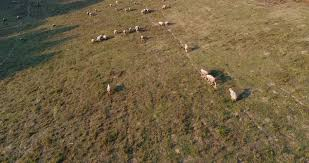sheep: (226, 86, 238, 103), (204, 74, 217, 84), (104, 82, 113, 95), (198, 66, 209, 76), (182, 42, 191, 53), (133, 23, 142, 32), (119, 27, 128, 36), (89, 37, 98, 45), (139, 33, 147, 42), (156, 20, 164, 28), (101, 31, 108, 40), (163, 19, 170, 27), (126, 25, 134, 32), (96, 33, 102, 42), (111, 28, 118, 35)
